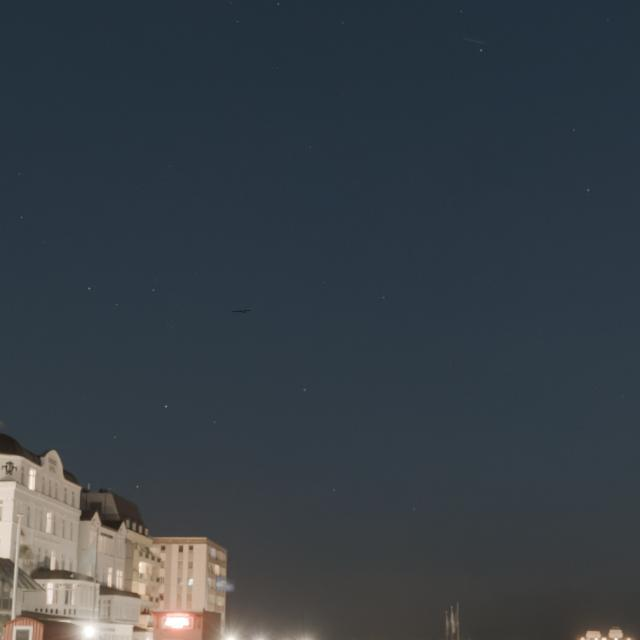Airaplan: (232, 309, 251, 313)
